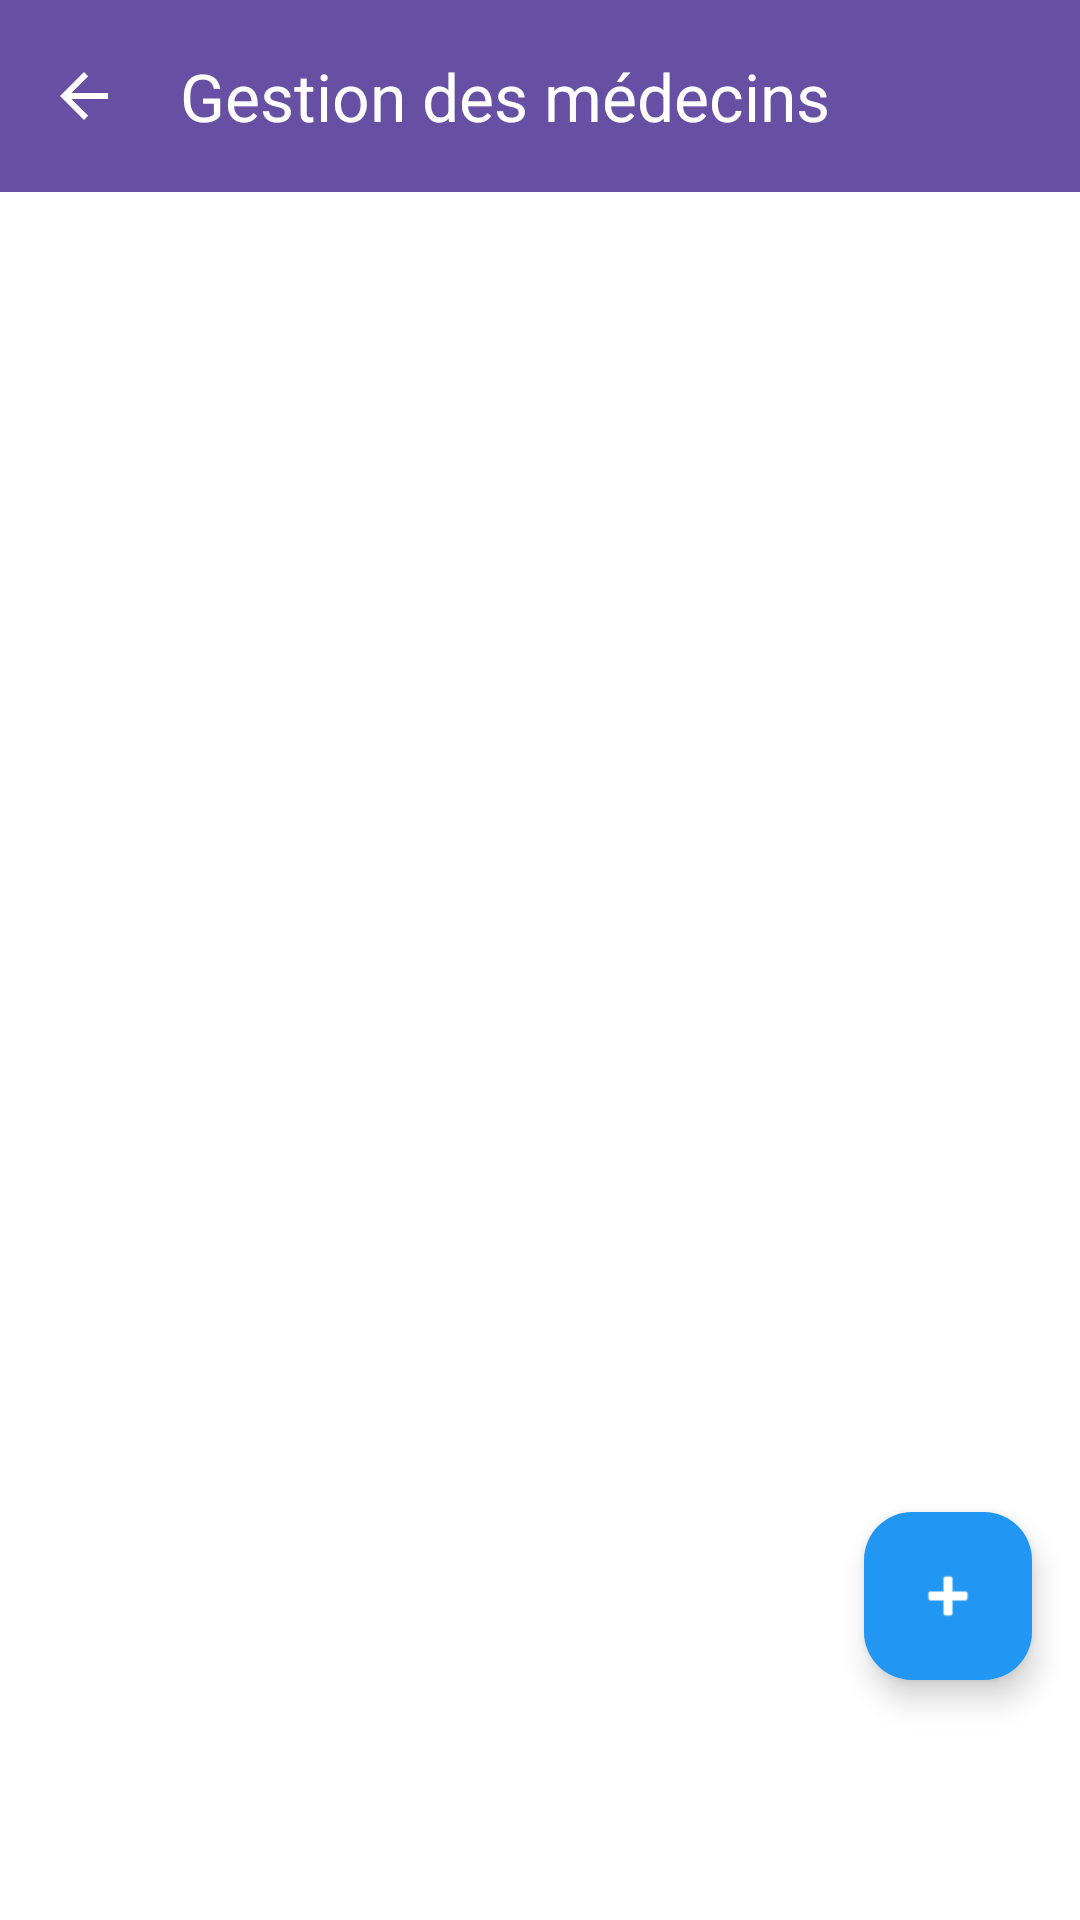

Screen size 1080 × 1920. Icon name, then its box in pixels as (x1, y1, x2, y2):
Ajouter un médecin: (864, 1512, 1032, 1680)
